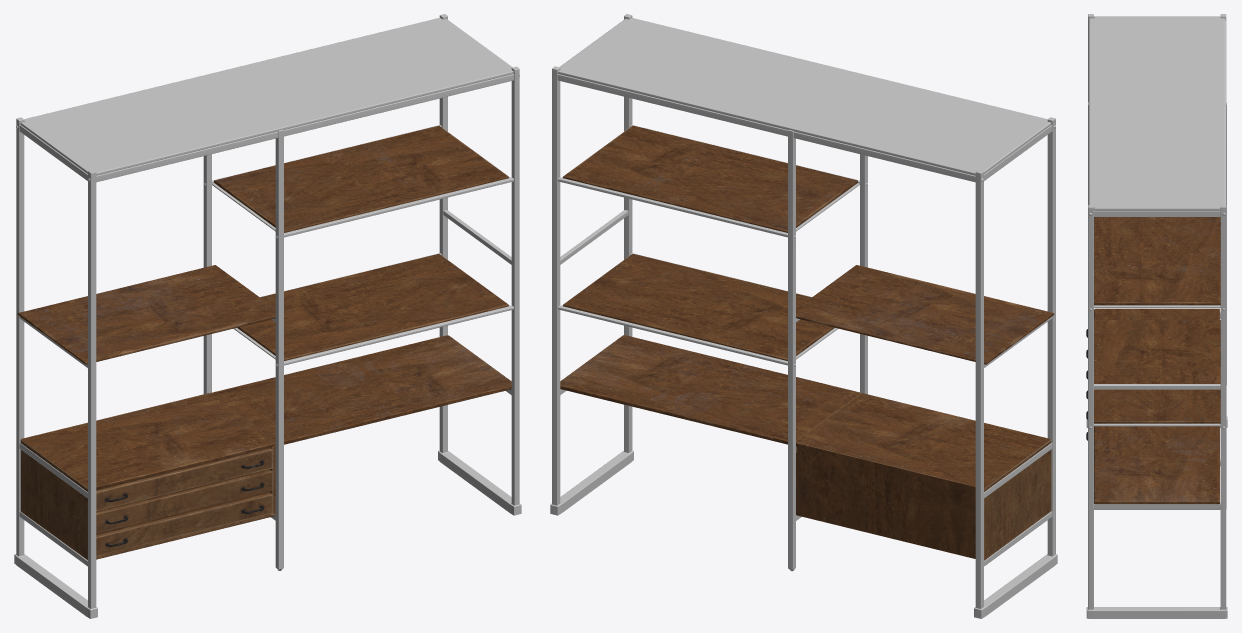
File: steel_frame_shelves_03_2k.fbx
The picture shows the model from 3 angles, left to right: view 1: azimuth 30°, elevation 25°; view 2: azimuth 150°, elevation 25°; view 3: azimuth 270°, elevation 25°; orthographic projection. The views are drawn at different scales.
Parts seen in each view (by area): view 1: steel_frame_shelves_03, steel_frame_shelves_03_drawer_03, steel_frame_shelves_03_drawer_02, steel_frame_shelves_03_drawer_01; view 2: steel_frame_shelves_03; view 3: steel_frame_shelves_03.
Part boxes in pixels (x1,y1,x2,y2): steel_frame_shelves_03: [14, 14, 521, 618]; steel_frame_shelves_03_drawer_03: [96, 492, 272, 556]; steel_frame_shelves_03_drawer_02: [96, 470, 272, 533]; steel_frame_shelves_03_drawer_01: [96, 448, 272, 511]; steel_frame_shelves_03: [550, 14, 1057, 618]; steel_frame_shelves_03: [1086, 14, 1227, 618].
Bounding box in the file's own units: 235 × 231 × 72.12.
